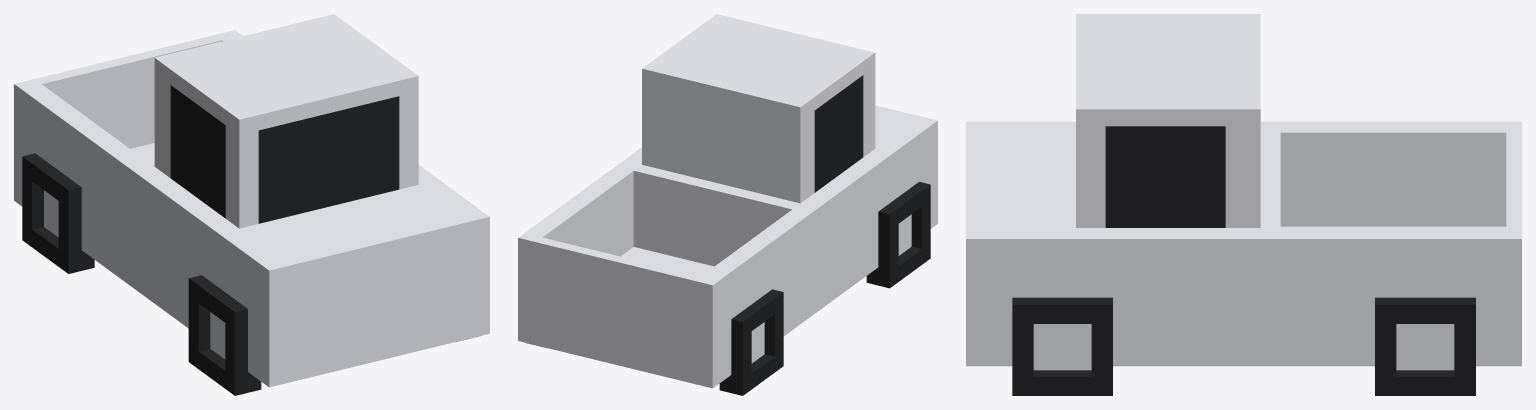
The model's file is Pickup.glb.
3 renders of one model, left to right at view 1: azimuth 30°, elevation 25°; view 2: azimuth 150°, elevation 25°; view 3: azimuth 270°, elevation 25°, orthographic. The views are drawn at different scales.
Visible parts, largest first — view 1: Body, Extras; view 2: Body, Extras; view 3: Body, Extras.
Boxes of the visible parts, left/top/right/bottom form: Body: left=14, top=14, right=489, bottom=387; Extras: left=22, top=85, right=481, bottom=395; Body: left=518, top=14, right=937, bottom=388; Extras: left=526, top=75, right=930, bottom=395; Body: left=966, top=14, right=1521, bottom=366; Extras: left=1012, top=126, right=1475, bottom=395.
Bounding box in the file's own units: 1.68 × 1.6 × 3.
Materials: 1 (1 with a texture image).
